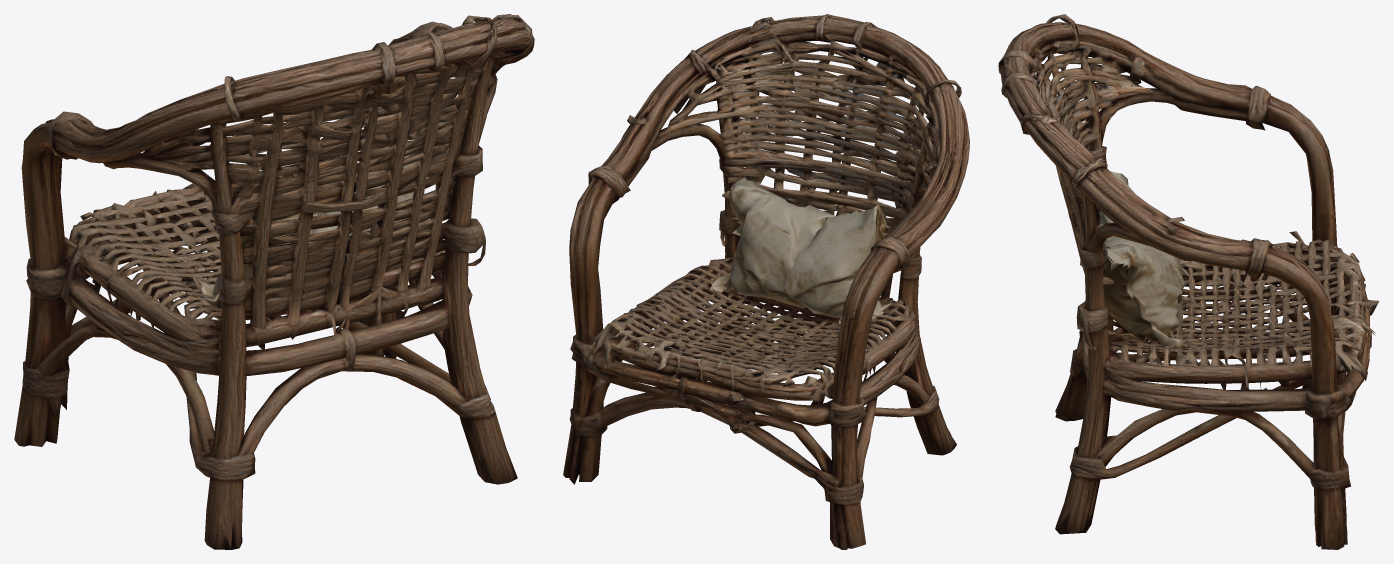
File: scene-armchair-wicker-v03.glb
3 renders of one model, left to right at view 1: azimuth 30°, elevation 25°; view 2: azimuth 150°, elevation 25°; view 3: azimuth 270°, elevation 25°, orthographic. The views are drawn at different scales.
Visible parts, largest first — view 1: tripo_node_f391067a-6b85-4ce8-8682-7407dd306cb1; view 2: tripo_node_f391067a-6b85-4ce8-8682-7407dd306cb1; view 3: tripo_node_f391067a-6b85-4ce8-8682-7407dd306cb1.
Part boxes in pixels (box(x1,y1,x2,y2)): tripo_node_f391067a-6b85-4ce8-8682-7407dd306cb1: box(14, 14, 534, 549); tripo_node_f391067a-6b85-4ce8-8682-7407dd306cb1: box(563, 14, 969, 549); tripo_node_f391067a-6b85-4ce8-8682-7407dd306cb1: box(998, 14, 1379, 549).
Bounding box in the file's own units: 0.8284 × 0.95 × 0.7824.
Materials: 1 (1 with a texture image).
